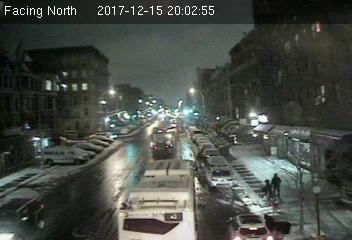bus: (115, 159, 202, 240)
car: (228, 212, 273, 240), (206, 167, 234, 187)
pedestrian: (272, 173, 284, 198)
